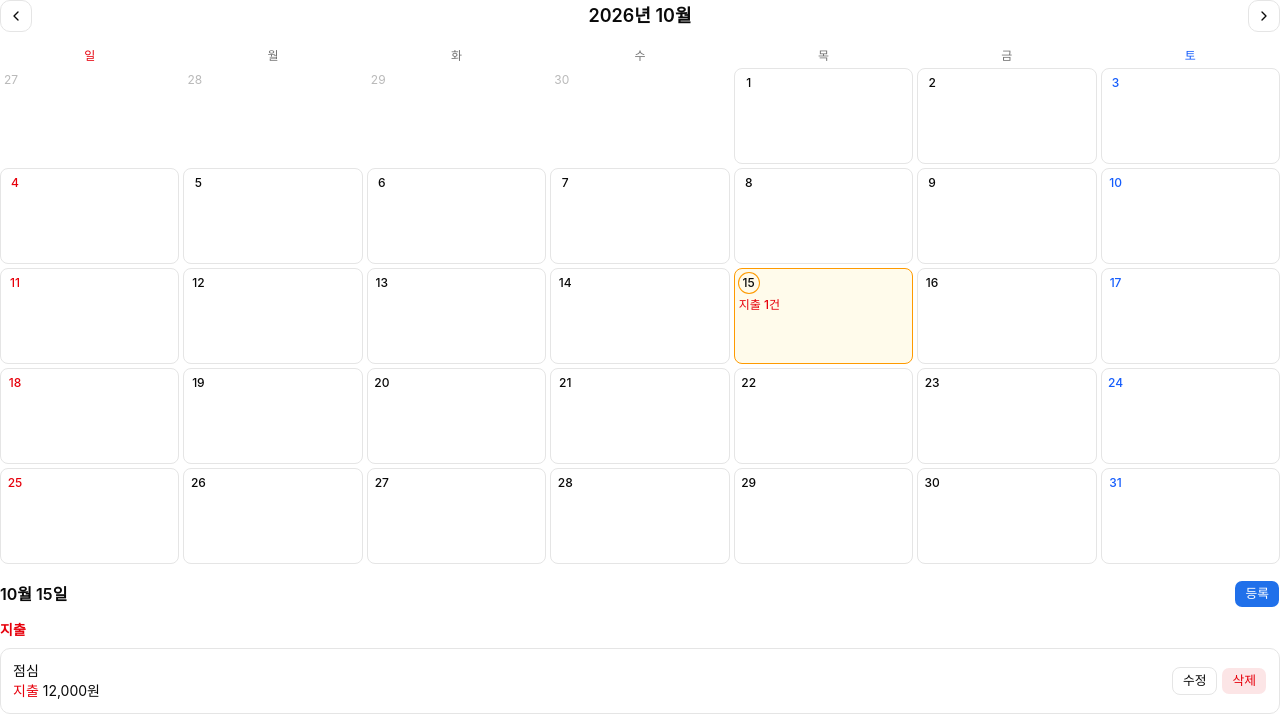
Test: Ledger › creates a record in the form dialog with the selected date and closes on save
Click the button named "10월 20일, 기록 없음" at (456, 416), box [367,368,546,464]
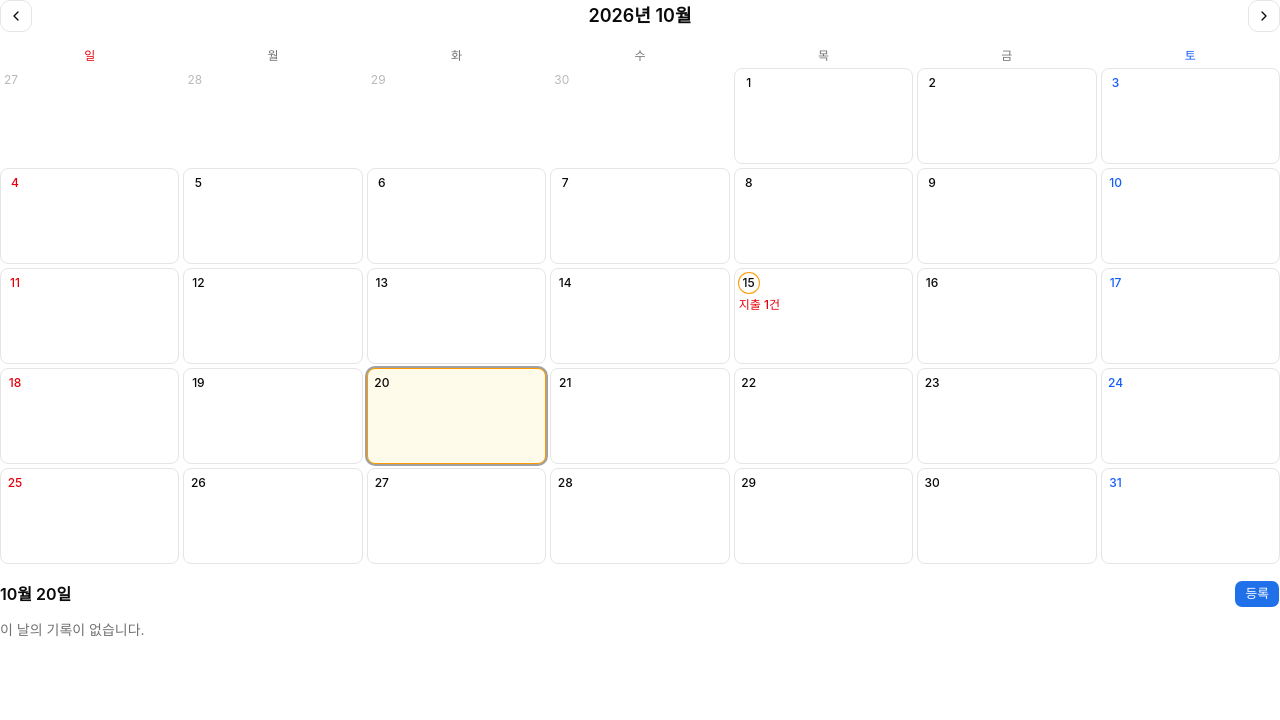
Click the button "등록" at (1257, 594), box [1234,580,1279,608]
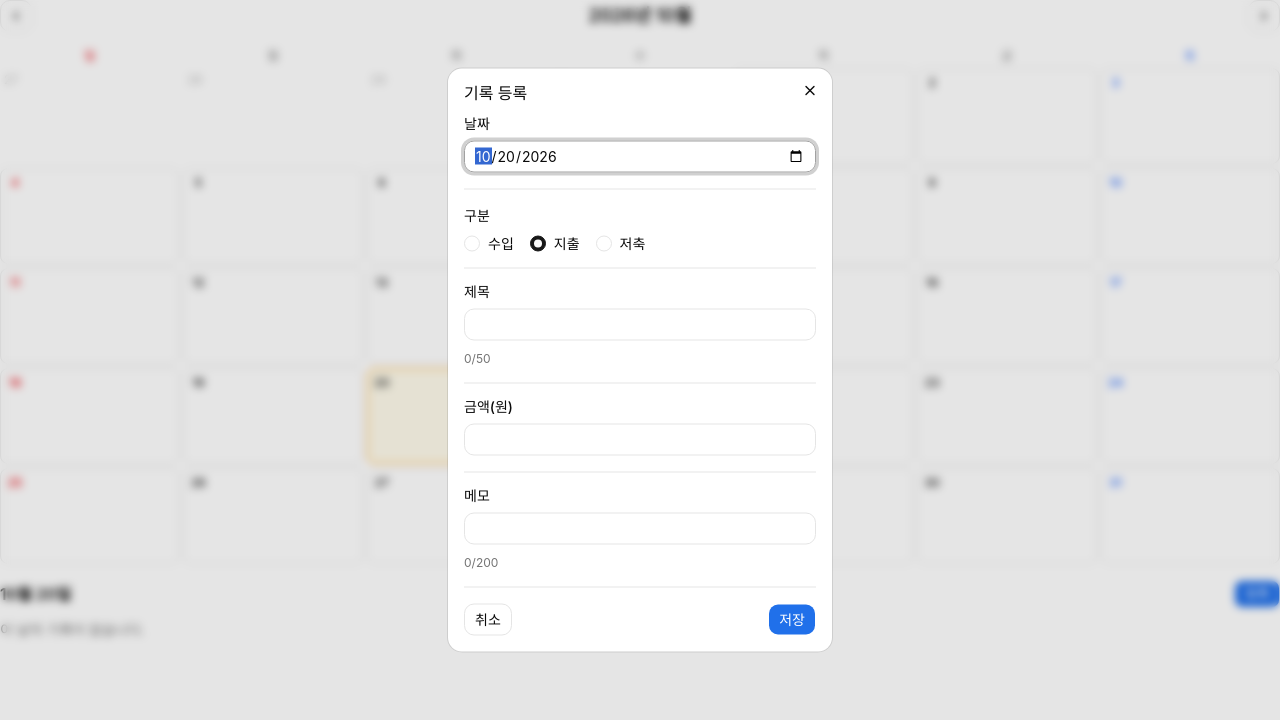
Result: the date field labelled "날짜" holds "2026-10-20" at [464,140,816,172]
Type "저녁" into the field labelled "제목" at (640, 324), box [464,308,816,340]
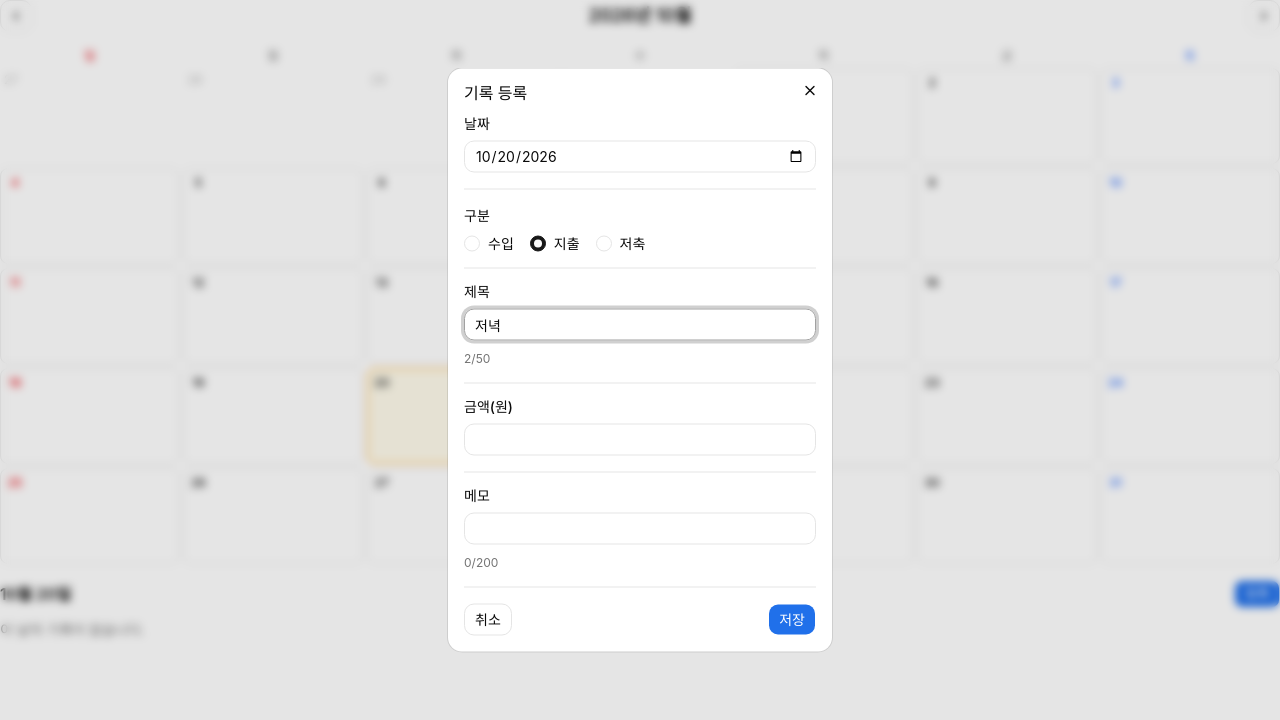
Type "15000" into the field labelled "금액(원)" at (640, 440), box [464,424,816,456]
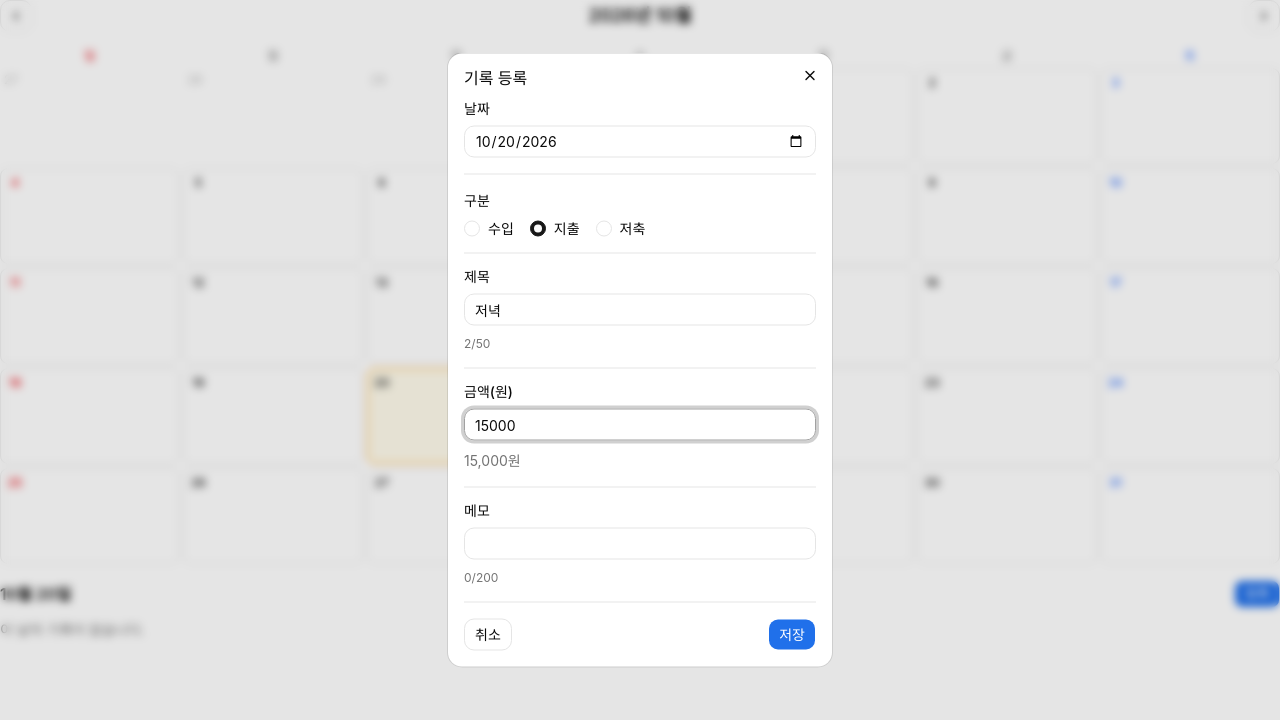
Click the button "저장" at (792, 634), box [768,618,816,650]
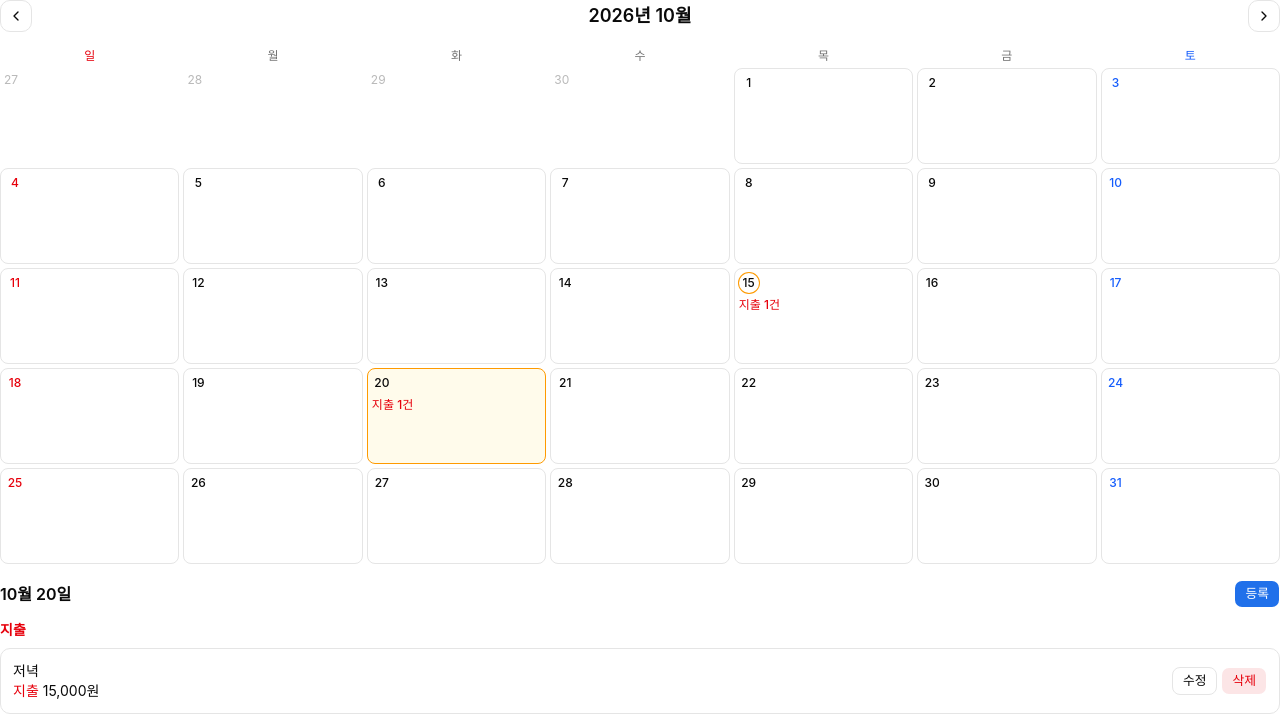
Result: the dialog is gone
Result: the button with aria-label "10월 20일, 지출 1건" is shown at [367,368,546,464]
Result: the text "저녁" is shown at [13,662,39,679]
